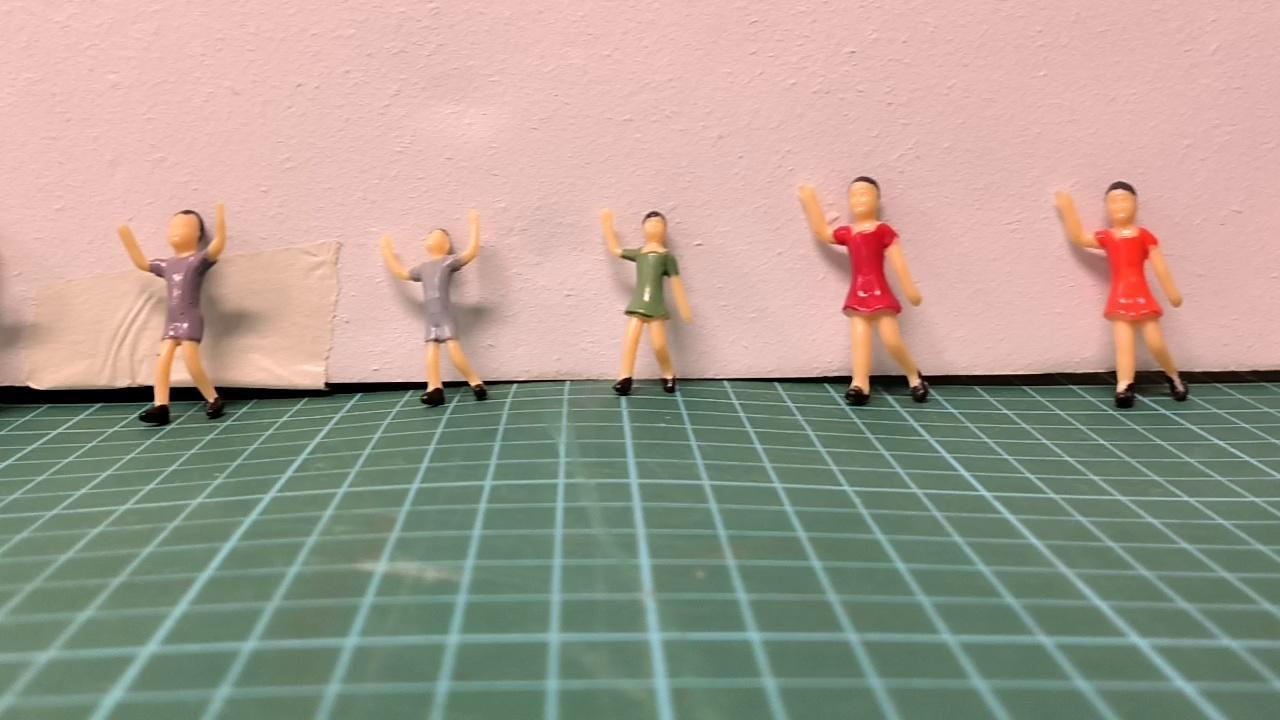human: (783, 170, 942, 414), (1040, 171, 1200, 412), (113, 196, 243, 433), (375, 200, 496, 413), (592, 196, 688, 404)
